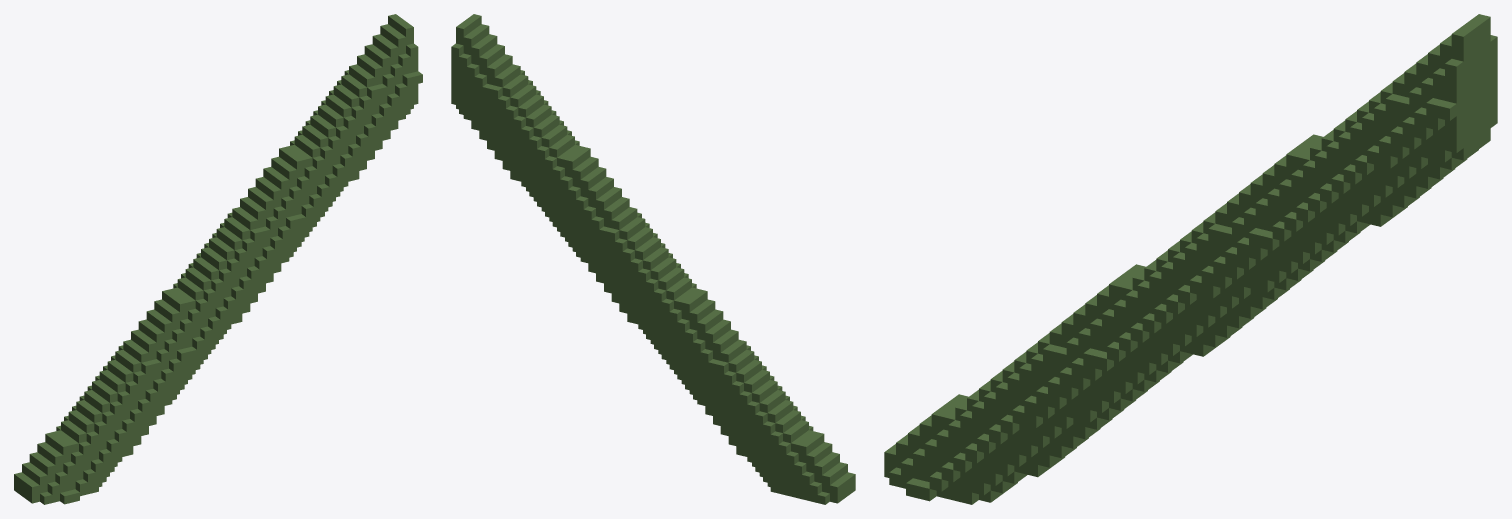
File: forest1.1-59.obj
3 views of the same model, side by side, from view 1: azimuth 30°, elevation 25°; view 2: azimuth 150°, elevation 25°; view 3: azimuth 330°, elevation 25° (orthographic). The views are drawn at different scales.
Bounding box in the file's own units: 4.9 × 4.7 × 0.7.
1 material, 1 textured.
